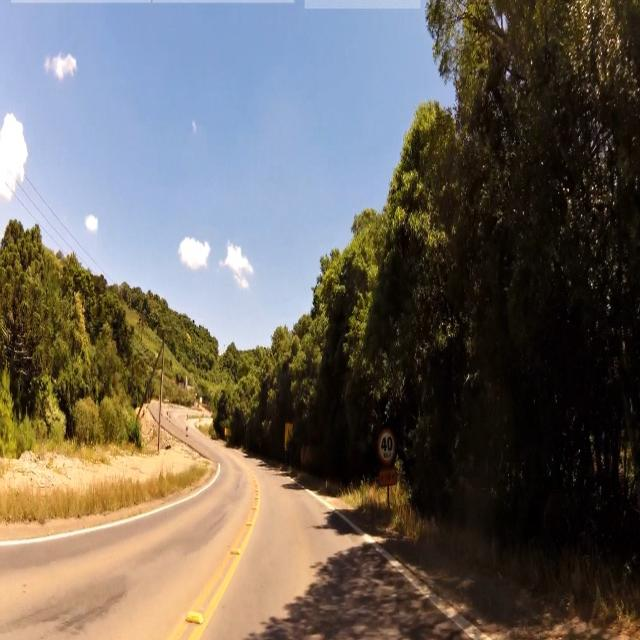R-19: (376, 426, 397, 464)
